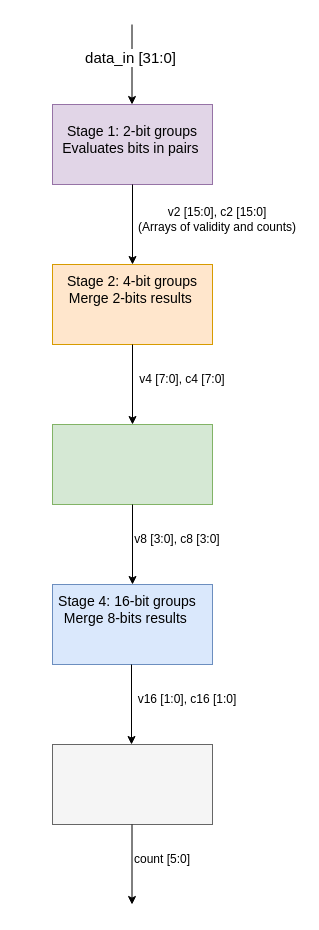
This 319x930 diagram has some shape labels left out. Here are the shapes that lost their labels. From the top down, the centre of each, then its label:
point 132,464: Stage 3: 8-bit groups Merge 4-bits results
point 132,784: Stage 5: Final 32-bit groups Includes All-Zero Edge Cas
